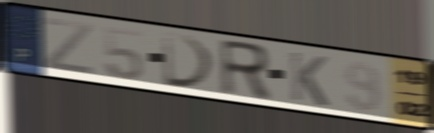5: (101, 24, 145, 81)
9: (342, 59, 385, 114)
D: (160, 30, 218, 91)
K: (288, 49, 331, 109)
R: (217, 37, 274, 104)
Z: (41, 16, 94, 77)
